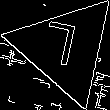L_S: (44, 20, 86, 76)
